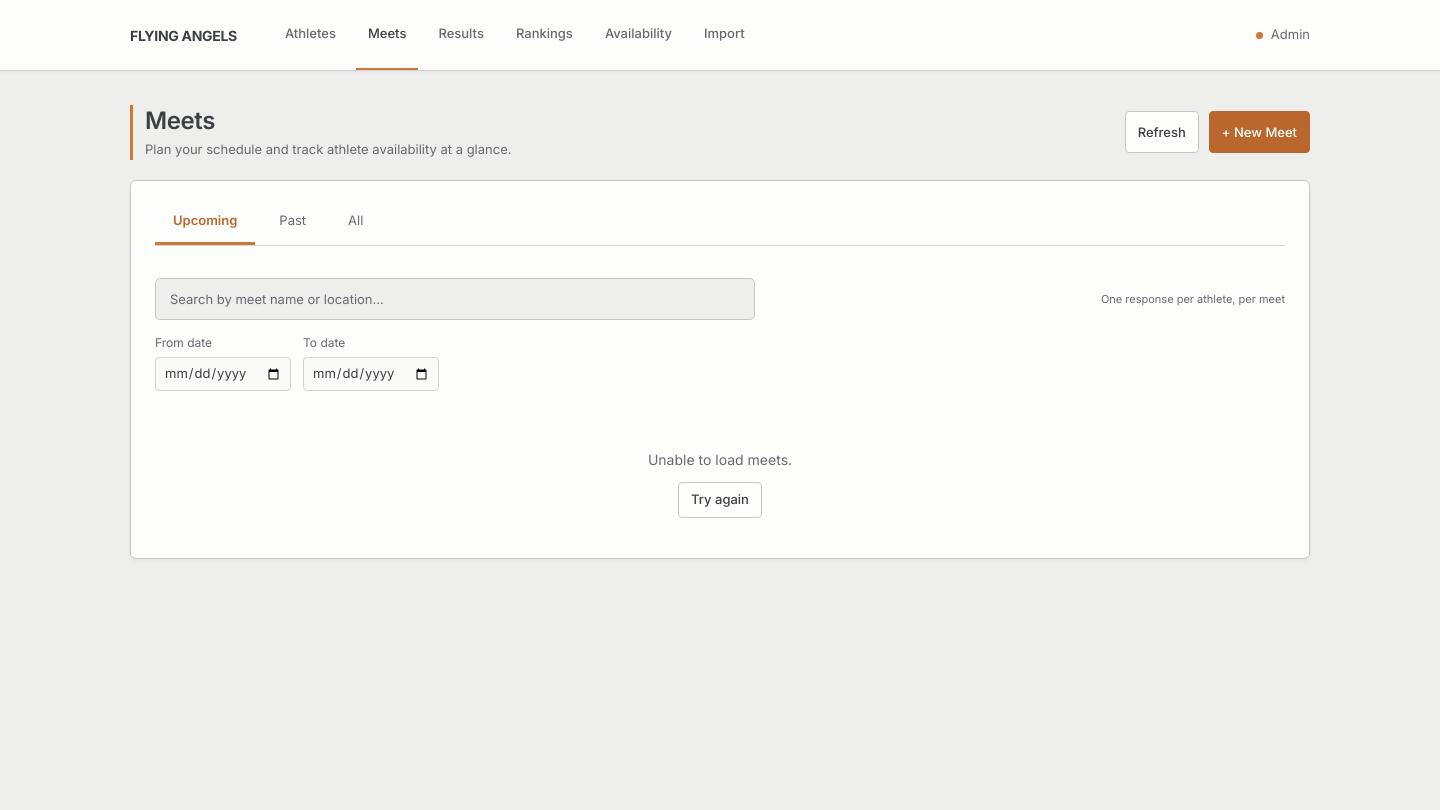
it: Meets List › allows a failed load to be retried
Check: the message reads "Unable to load meets.", box [648,451,792,468]
Click the button "Try again". click: x=720, y=500
box: [678,482,762,518]
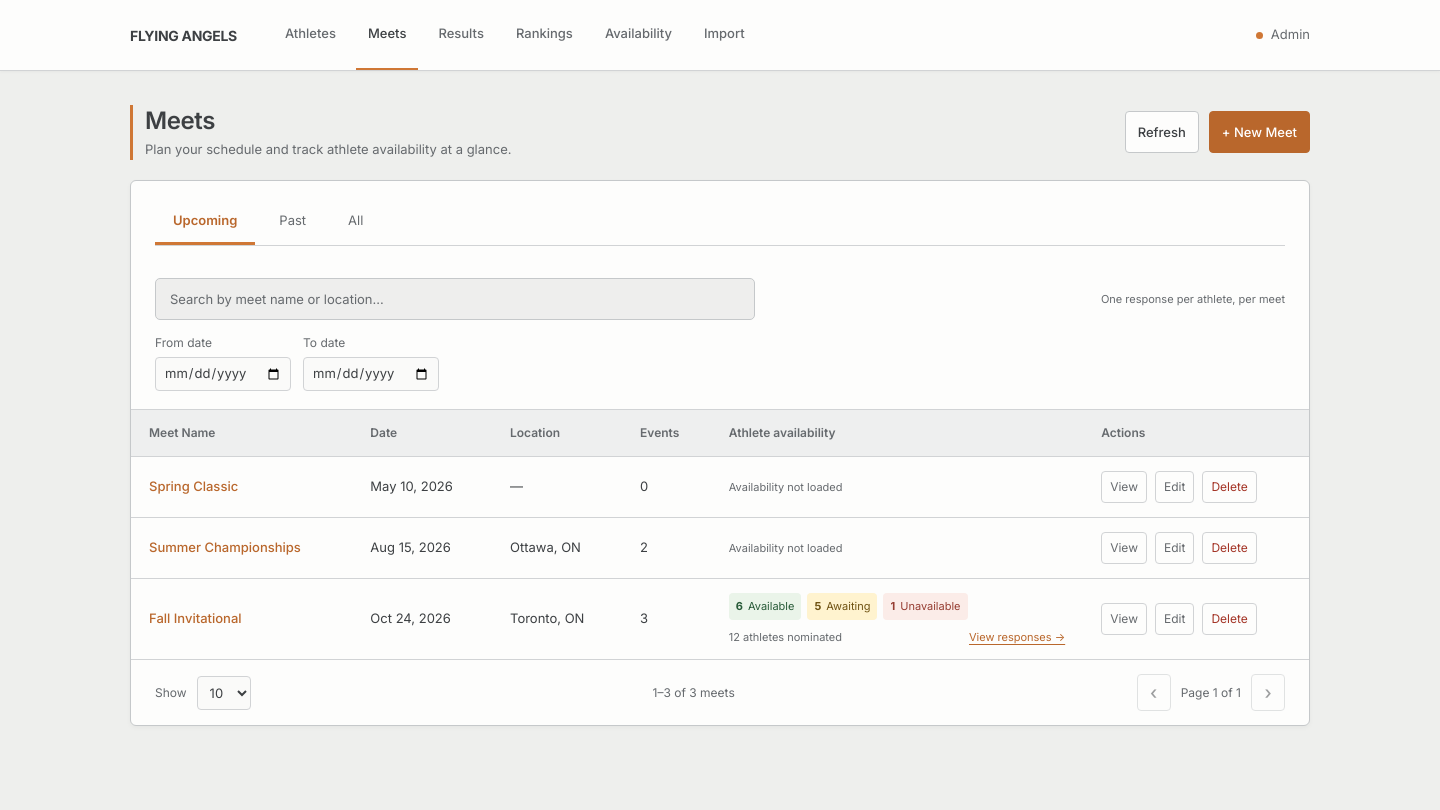
Check: the column heading "Fall Invitational" is shown, box [131,579,352,659]
